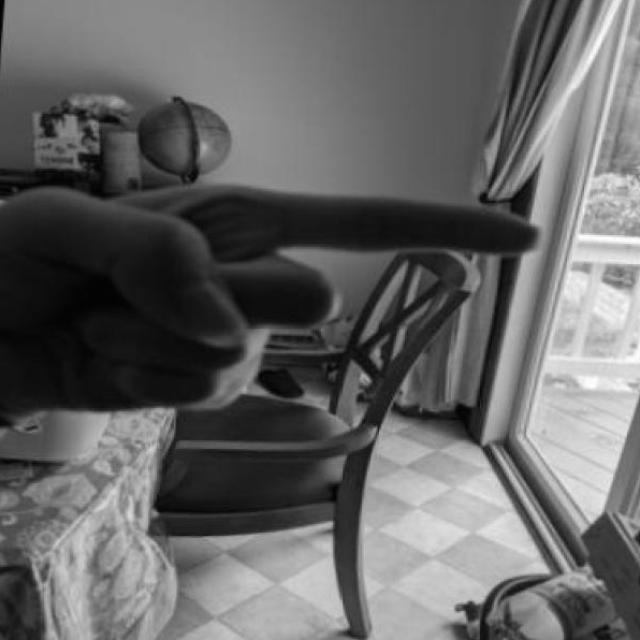G: (0, 158, 556, 436)
